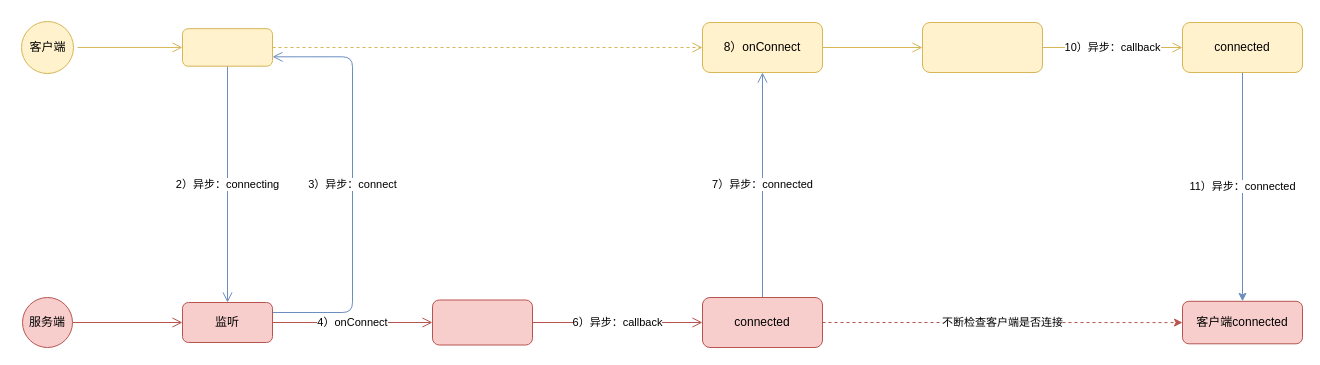
The diagram is 1320 pixels wide and 365 high, and some of its shapes have lost their labels. The shapes that lost their labels are listed below. From the top down, each one's centre as x and y in pixels, then its label:
At point 227,47: "1）连接".
At point 982,47: "9）连接验证".
At point 482,322: "5）连接验证".
